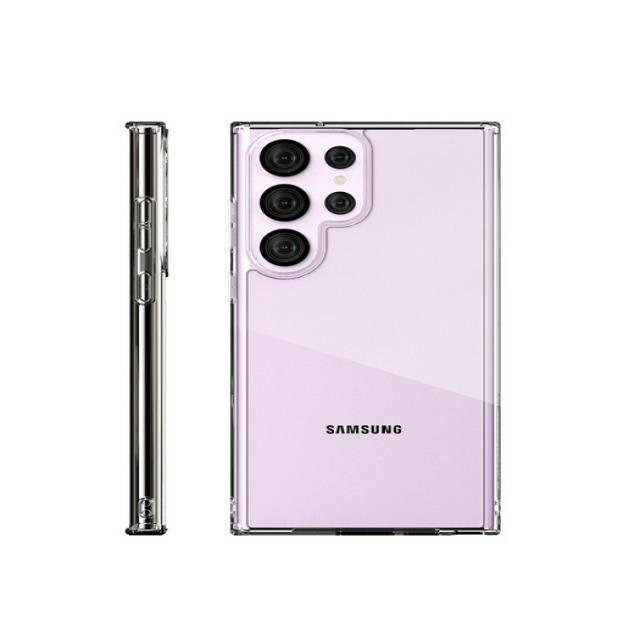phone: (231, 120, 502, 536)
